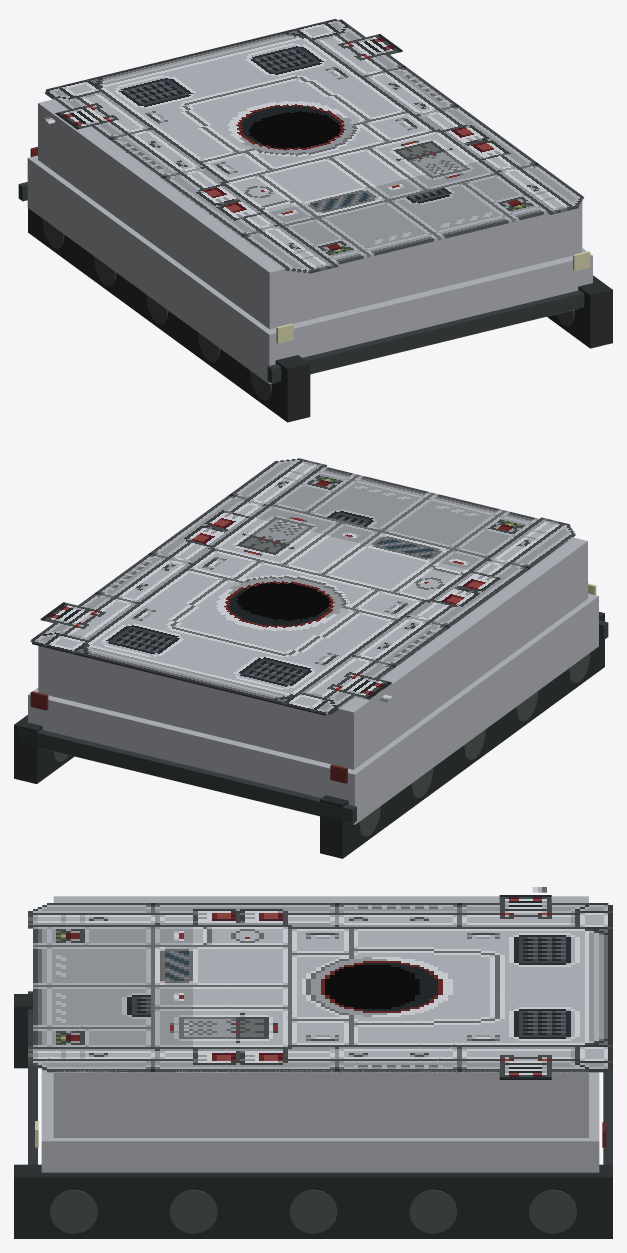
File: CMU3DReduxVehicleTankPMC.glb
The picture shows the model from 3 angles, top to bottom: view 1: azimuth 30°, elevation 25°; view 2: azimuth 150°, elevation 25°; view 3: azimuth 270°, elevation 25°; orthographic projection. The views are drawn at different scales.
Parts seen in each view (by area): view 1: source hull roof panel (×3), upper hull, closed lower chassis, continuous track (×2), front bumper; view 2: source hull roof panel (×3), upper hull, closed lower chassis, continuous track (×2), rear bumper; view 3: source hull roof panel (×3), upper hull, continuous track (×2), closed lower chassis, track road wheel (×5), front bumper, rear bumper.
Part boxes in pixels (<box>): source hull roof panel (×3): <box>42,19,583,273</box>; upper hull: <box>38,99,582,329</box>; closed lower chassis: <box>27,155,592,384</box>; continuous track (×2): <box>28,208,612,422</box>; front bumper: <box>267,290,584,383</box>; source hull roof panel (×3): <box>30,458,575,715</box>; upper hull: <box>38,537,587,769</box>; closed lower chassis: <box>28,593,598,824</box>; continuous track (×2): <box>14,612,604,858</box>; rear bumper: <box>18,728,356,823</box>; source hull roof panel (×3): <box>28,887,612,1079</box>; upper hull: <box>53,896,588,1137</box>; continuous track (×2): <box>14,994,612,1238</box>; closed lower chassis: <box>41,1068,599,1172</box>; track road wheel (×5): <box>49,1189,577,1233</box>; front bumper: <box>28,991,37,1164</box>; rear bumper: <box>603,1070,612,1164</box>.
Bounding box in the file's own units: 3.01 × 1.17 × 3.97.
9 materials, 3 textured.
